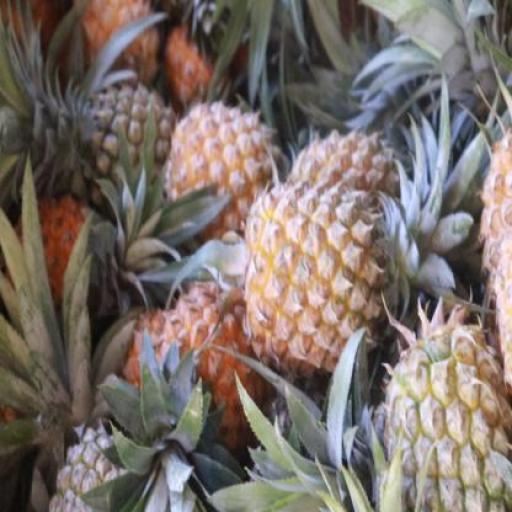------------------------------: (373, 328, 511, 510)
Pineapple - v8 v1: (244, 174, 385, 366), (154, 277, 263, 482), (168, 104, 286, 232)
